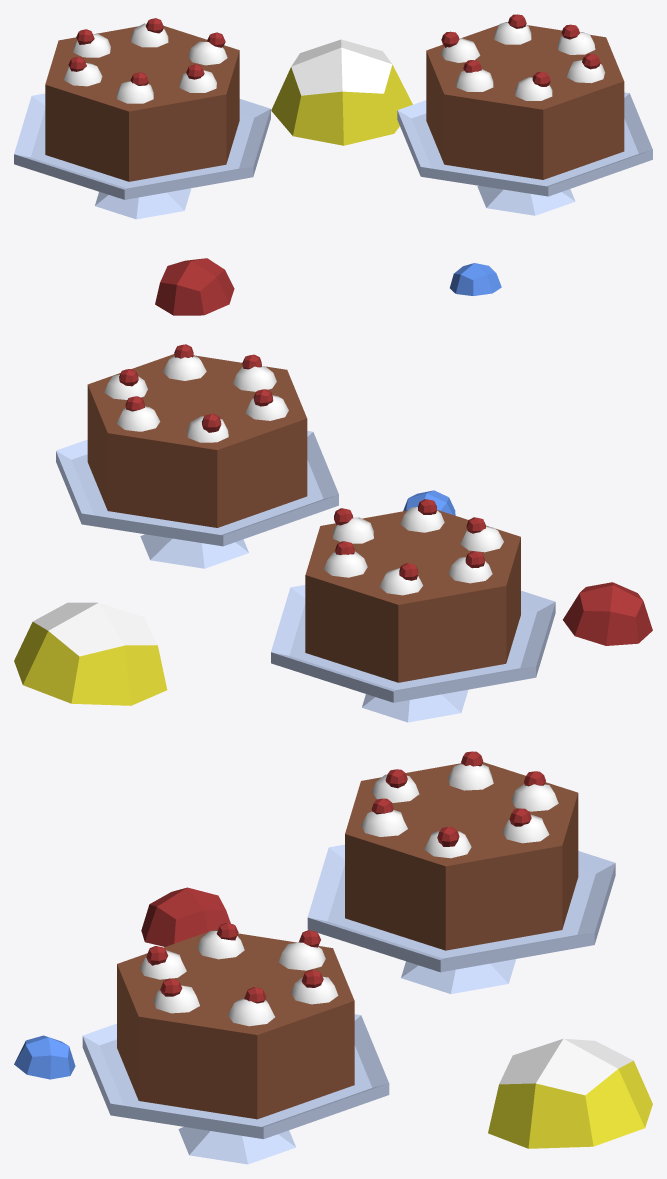
File: Candy2.fbx
The picture shows the model from 3 angles, top to bottom: view 1: azimuth 30°, elevation 25°; view 2: azimuth 150°, elevation 25°; view 3: azimuth 270°, elevation 25°; orthographic projection. The views are drawn at different scales.
Parts seen in each view (by area): view 1: Candy2; view 2: Candy2; view 3: Candy2.
Part boxes in pixels (left/top/right/bottom): Candy2: left=14, top=14, right=652, bottom=315; Candy2: left=14, top=344, right=652, bottom=722; Candy2: left=14, top=751, right=652, bottom=1164.
Bounding box in the file's own units: 0.8474 × 0.2524 × 0.7451.
